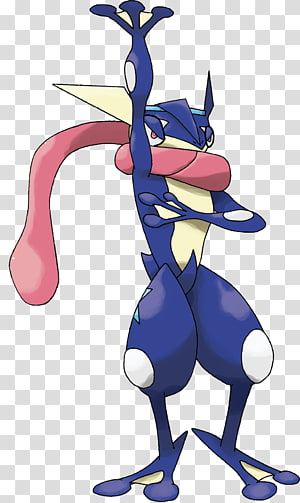greninja: (14, 3, 298, 503)
